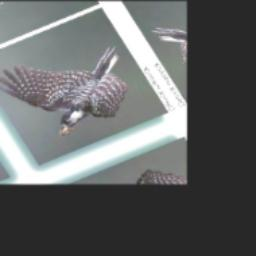Woodpecker: (0, 25, 152, 154)
